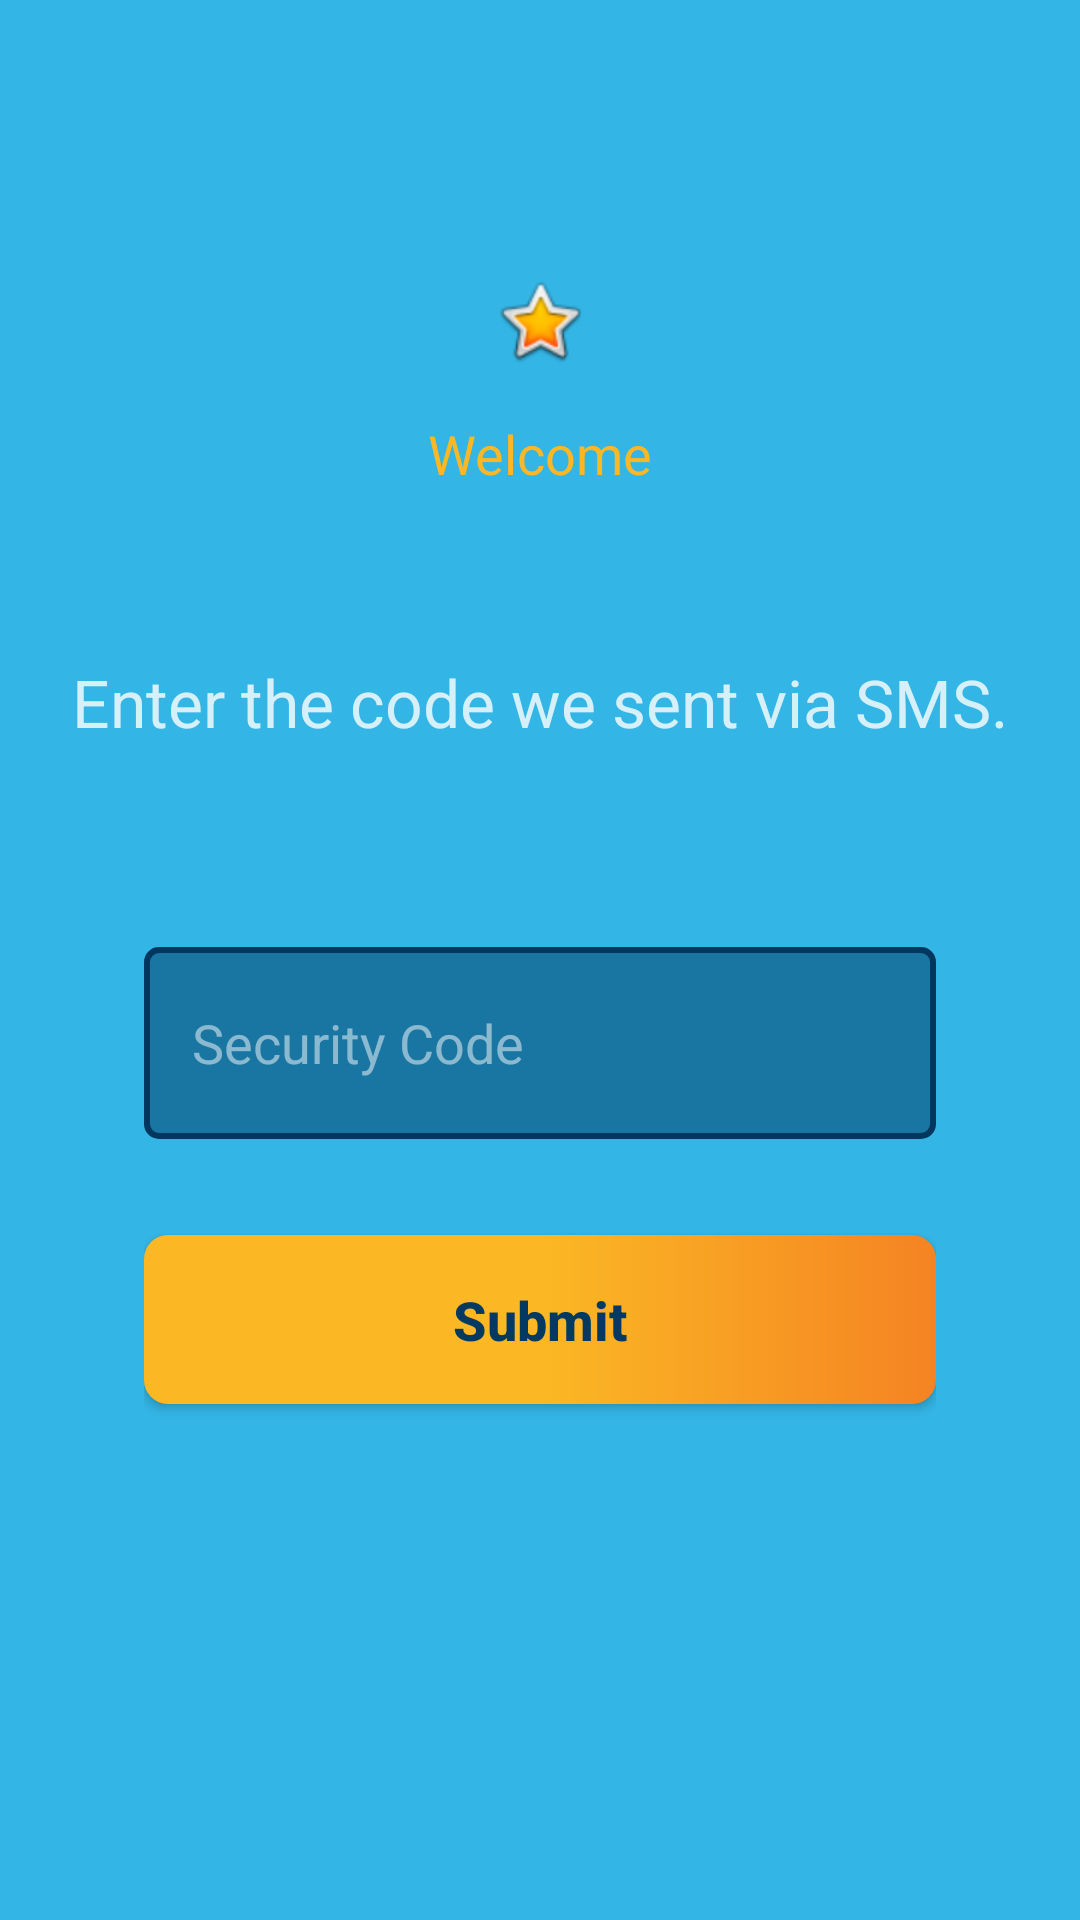

Locate icon controls on the screen. Image size 1080w x 1920h, boxes as (x1, y1, x2, y2).
star on: (501, 283, 581, 361)
